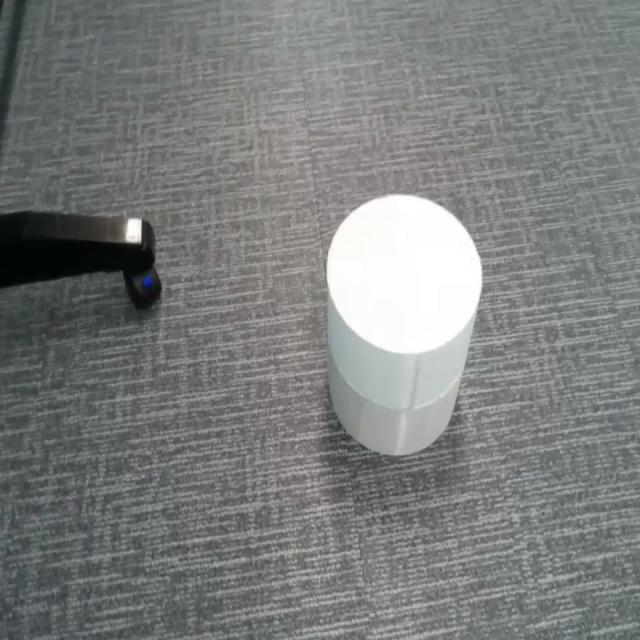cylinder: (325, 192, 483, 459)
